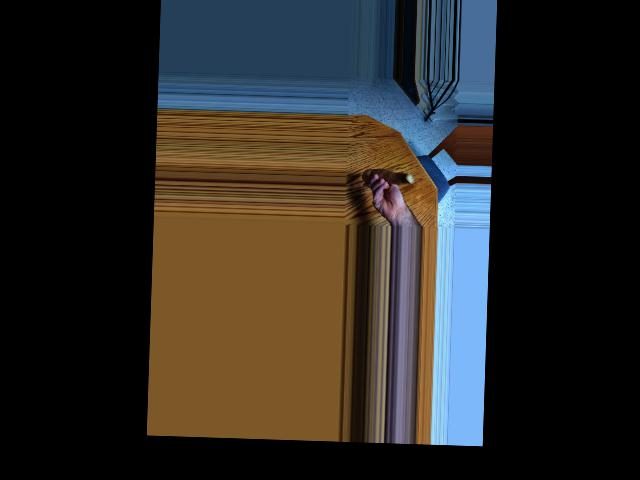sweet_potato: (363, 167, 415, 189)
